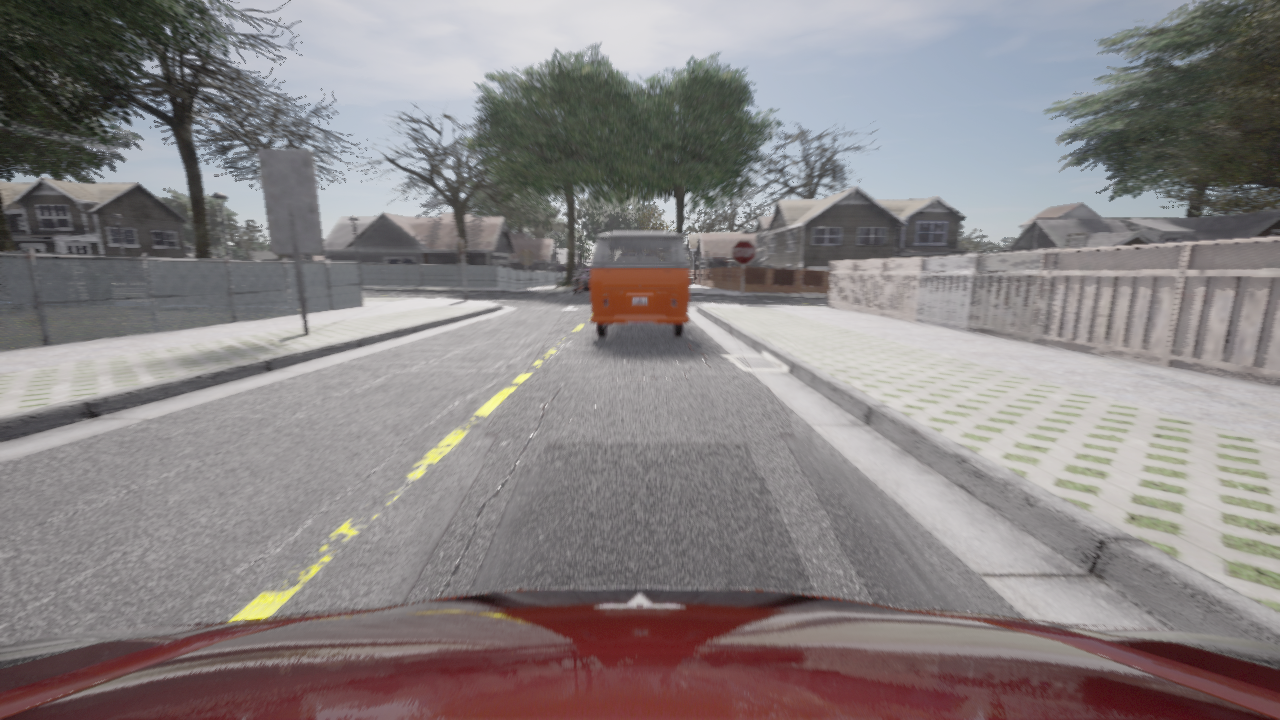cyclist: (0, 588, 1279, 719), (591, 231, 689, 336), (573, 267, 590, 295)
